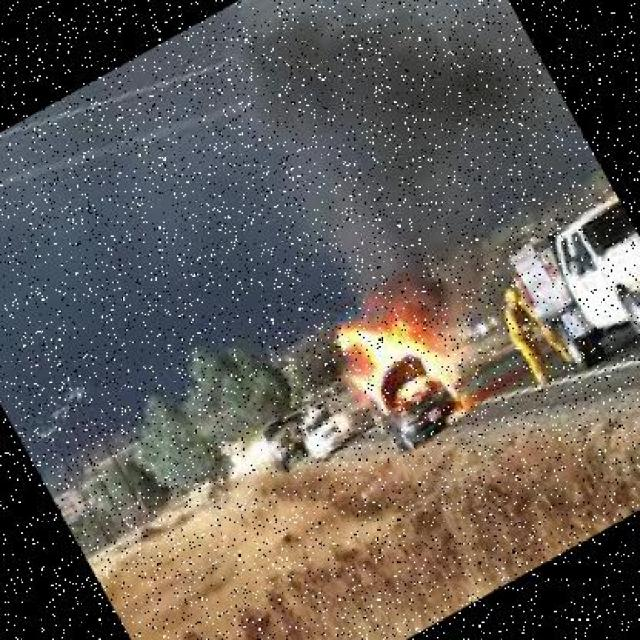fire: (312, 277, 497, 469)
